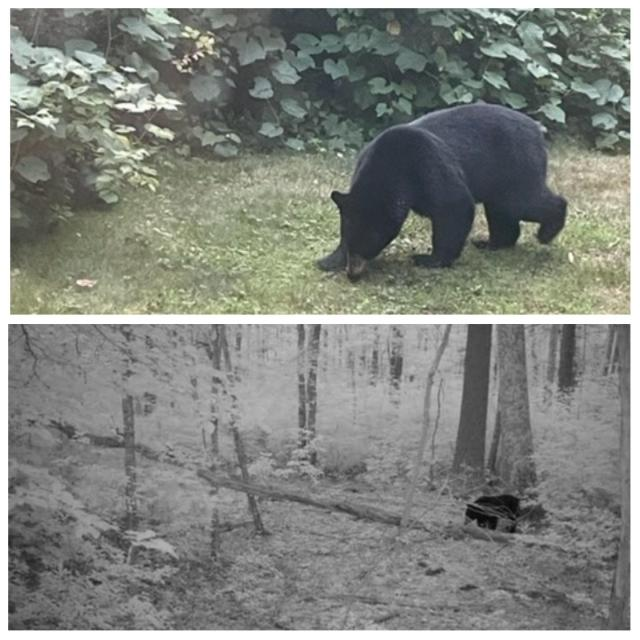Bear: (317, 103, 568, 276), (466, 490, 524, 537)
